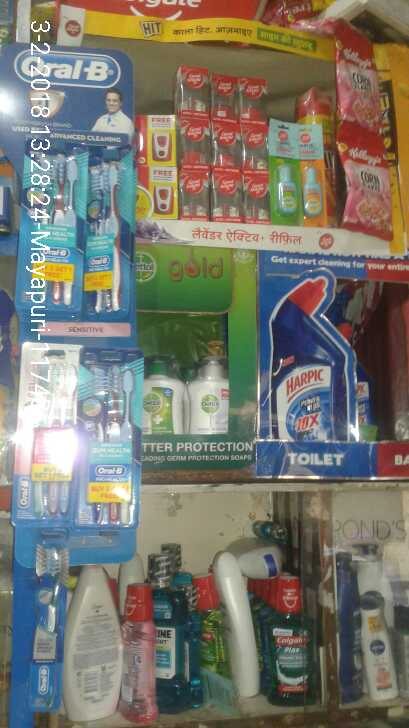oralb: (13, 343, 85, 537), (78, 349, 145, 529), (26, 151, 81, 311)
